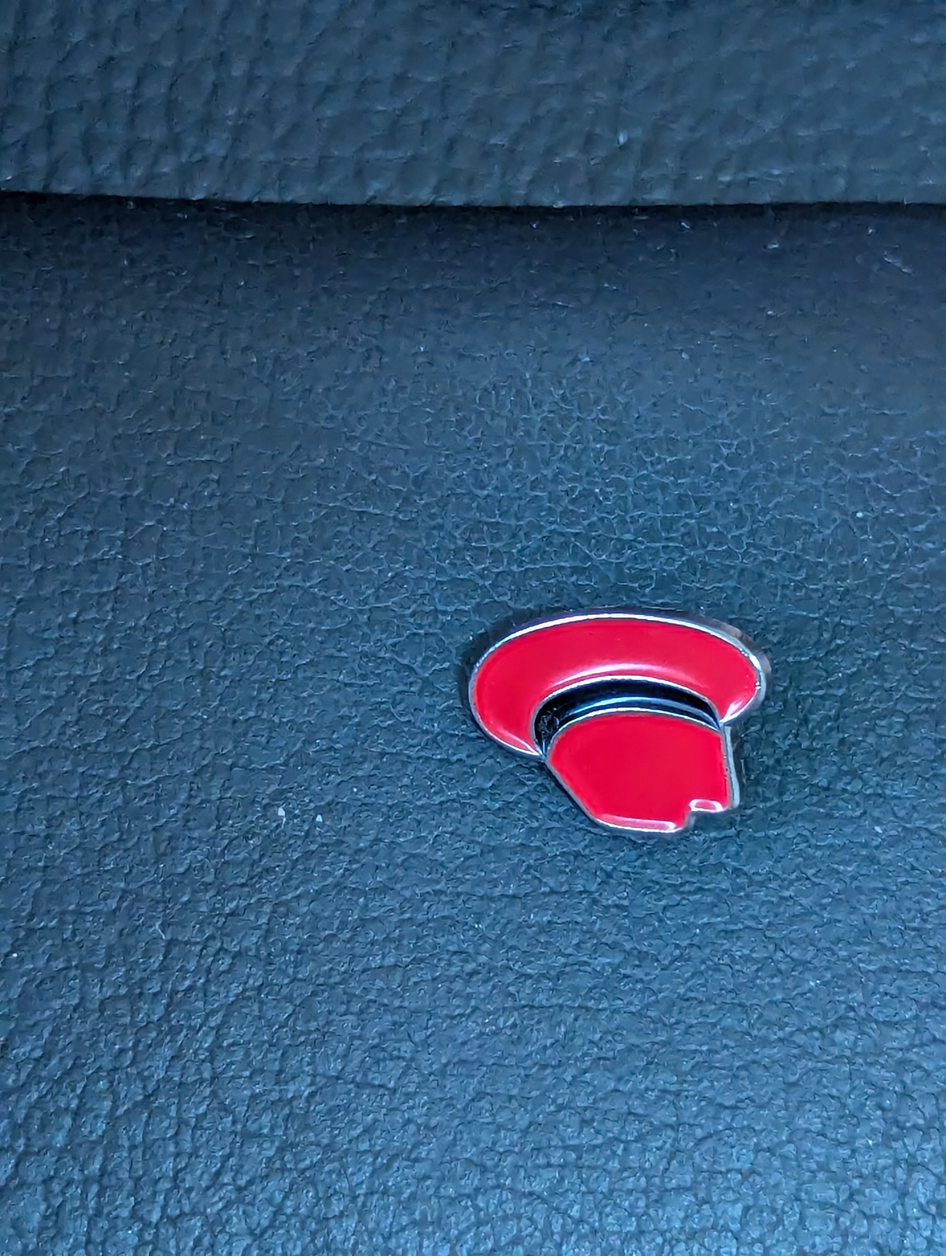Red-Hat: (406, 548, 880, 880)
